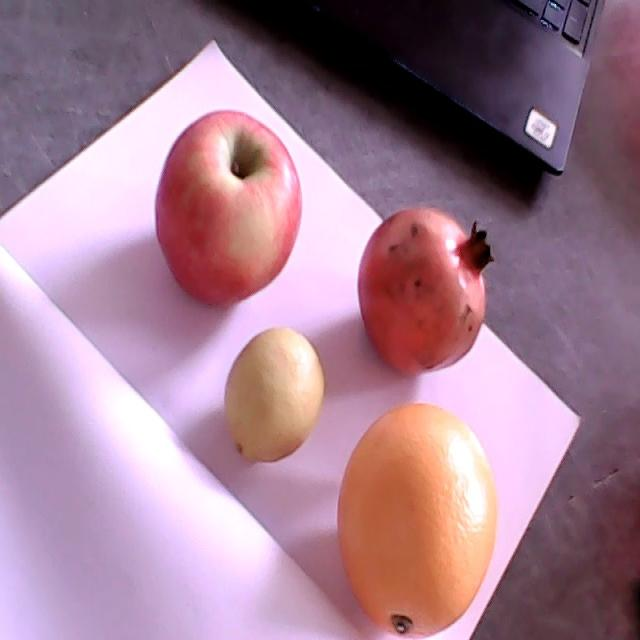apple: (154, 109, 302, 309)
lemon: (224, 328, 325, 463)
orange: (339, 401, 497, 639)
pomegranate: (358, 205, 495, 375)
